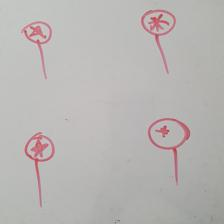transcription-end: (147, 117, 190, 184), (139, 8, 175, 76), (22, 133, 54, 207), (21, 21, 53, 79)
